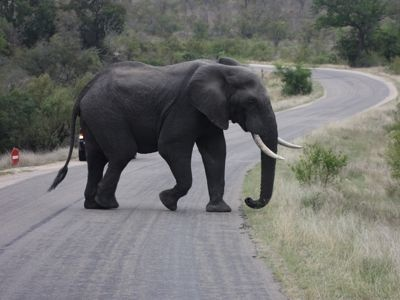elephant: (48, 54, 303, 211)
